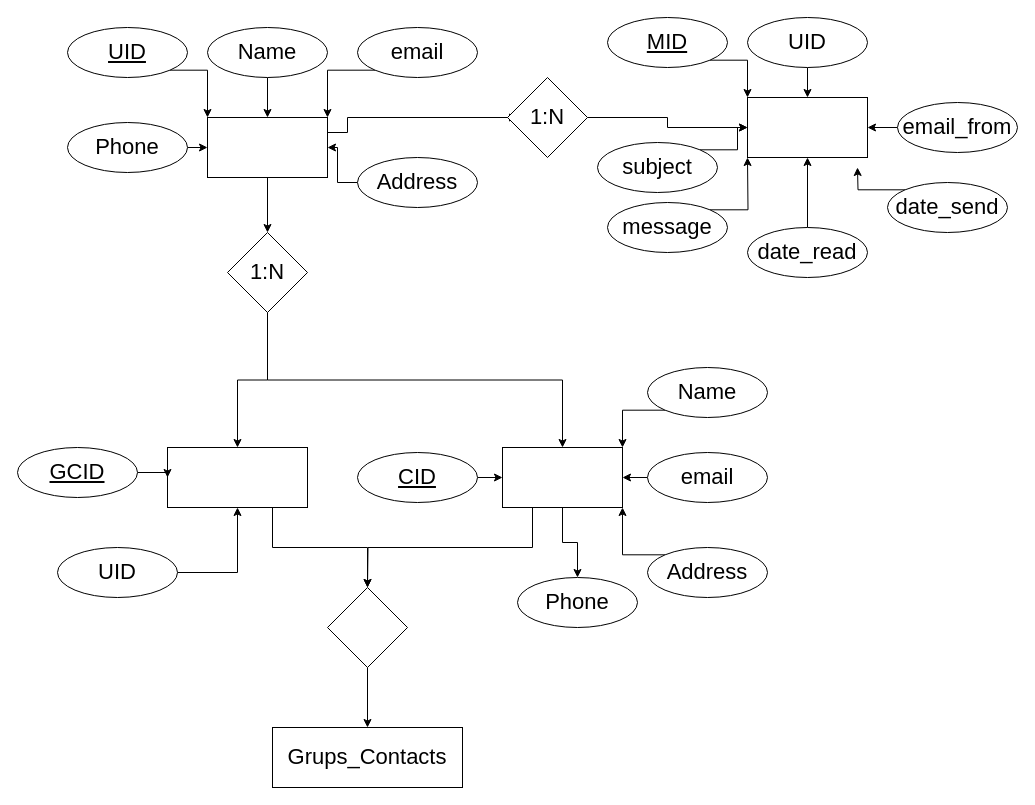
The diagram is 1035 pixels wide and 805 high, and some of its shapes have lost their labels. The centre of each missing label's shape, as x and y in pixels:
"Contacts" goes at (562,477).
"G_Contacts" goes at (237,477).
"Messages" goes at (807,127).
"N:N" goes at (367,627).
"Users" goes at (267,147).
